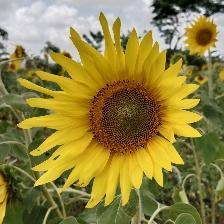sunflower: (48, 23, 186, 200), (185, 18, 220, 56)
